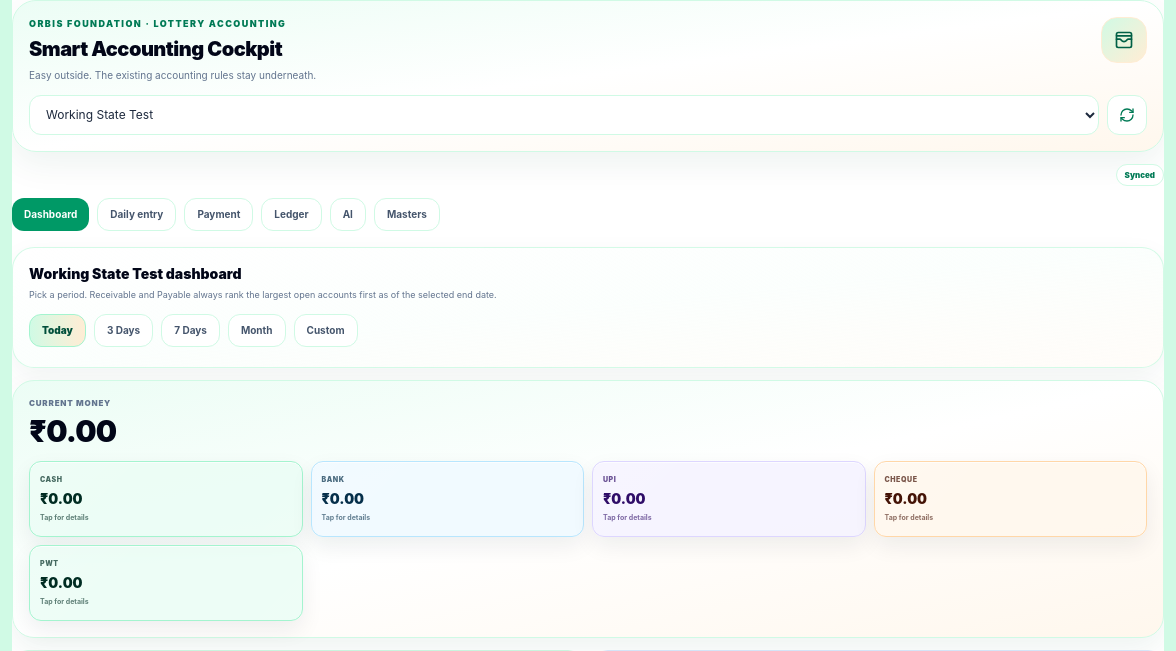
LotteryAccountingWorkspace local working state › ignores an older workspace response after a newer organization refresh wins
Expected: the heading "Working State Test dashboard" is shown, [29,265,241,282]
Click the button named "Refresh accounting workspace": (1127, 115) [1107,95,1147,135]
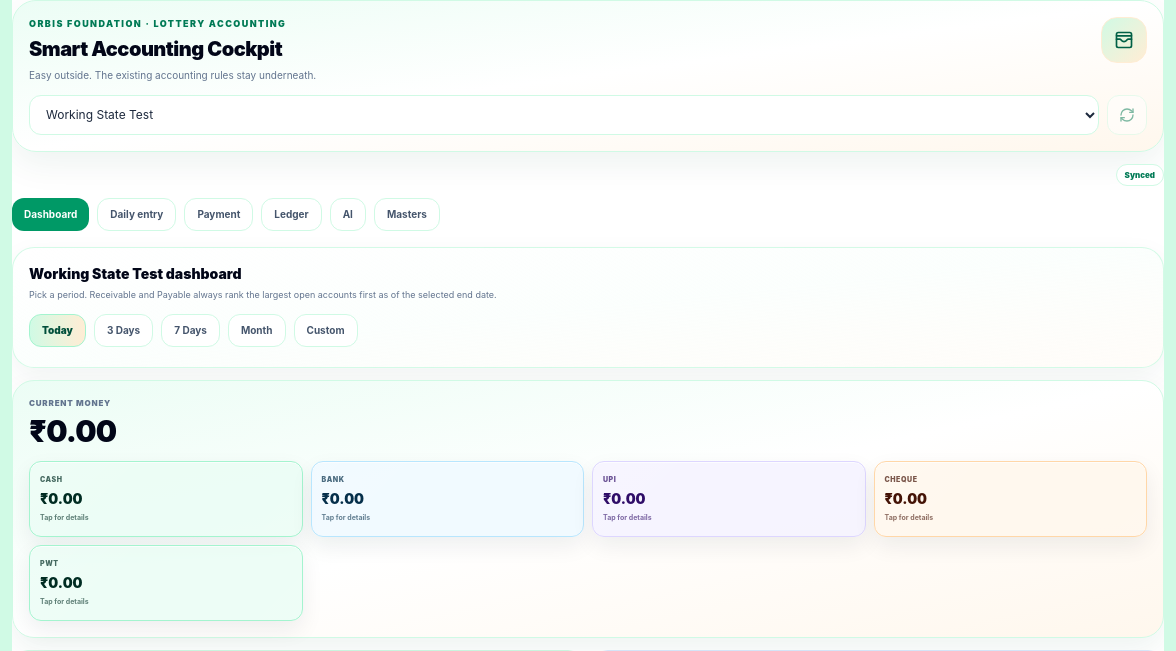
Select "Second Working State Test" in the dropdown named "Accounting organization": (564, 115) [29,95,1099,135]
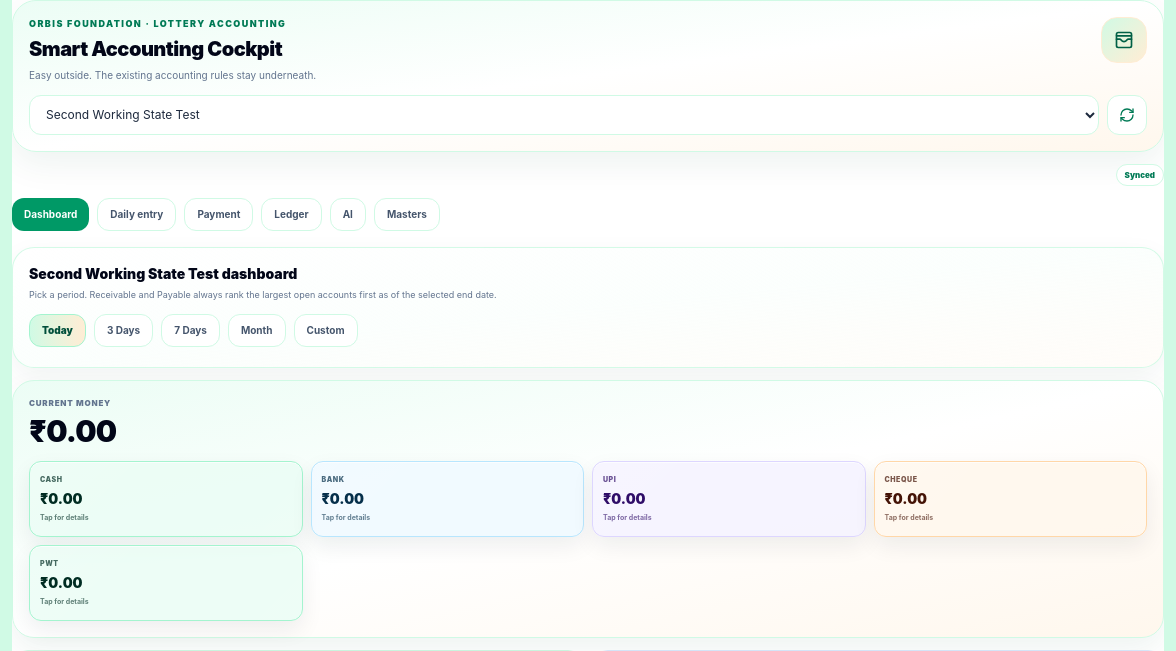
Result: the heading "Second Working State Test dashboard" is shown at [29,265,297,282]
